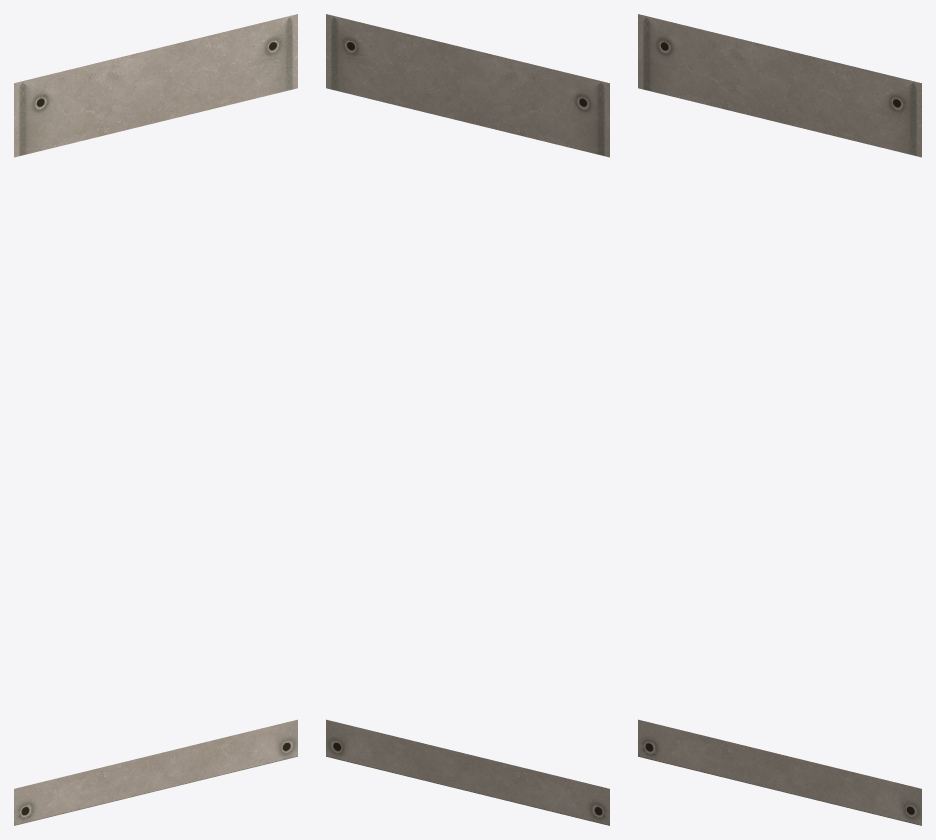
The model's file is Wall_01_Window.glb.
The picture shows the model from 3 angles, left to right: view 1: azimuth 30°, elevation 25°; view 2: azimuth 150°, elevation 25°; view 3: azimuth 330°, elevation 25°; orthographic projection.
Parts seen in each view (by area): view 1: Wall_01_Window; view 2: Wall_01_Window; view 3: Wall_01_Window.
Boxes of the visible parts, x1,y1,x2,y2 form: Wall_01_Window: (14,14,297,825); Wall_01_Window: (326,14,609,825); Wall_01_Window: (638,14,921,825).
Bounding box in the file's own units: 2 × 5 × 8.15e-07.
Materials: 1 (1 with a texture image).
